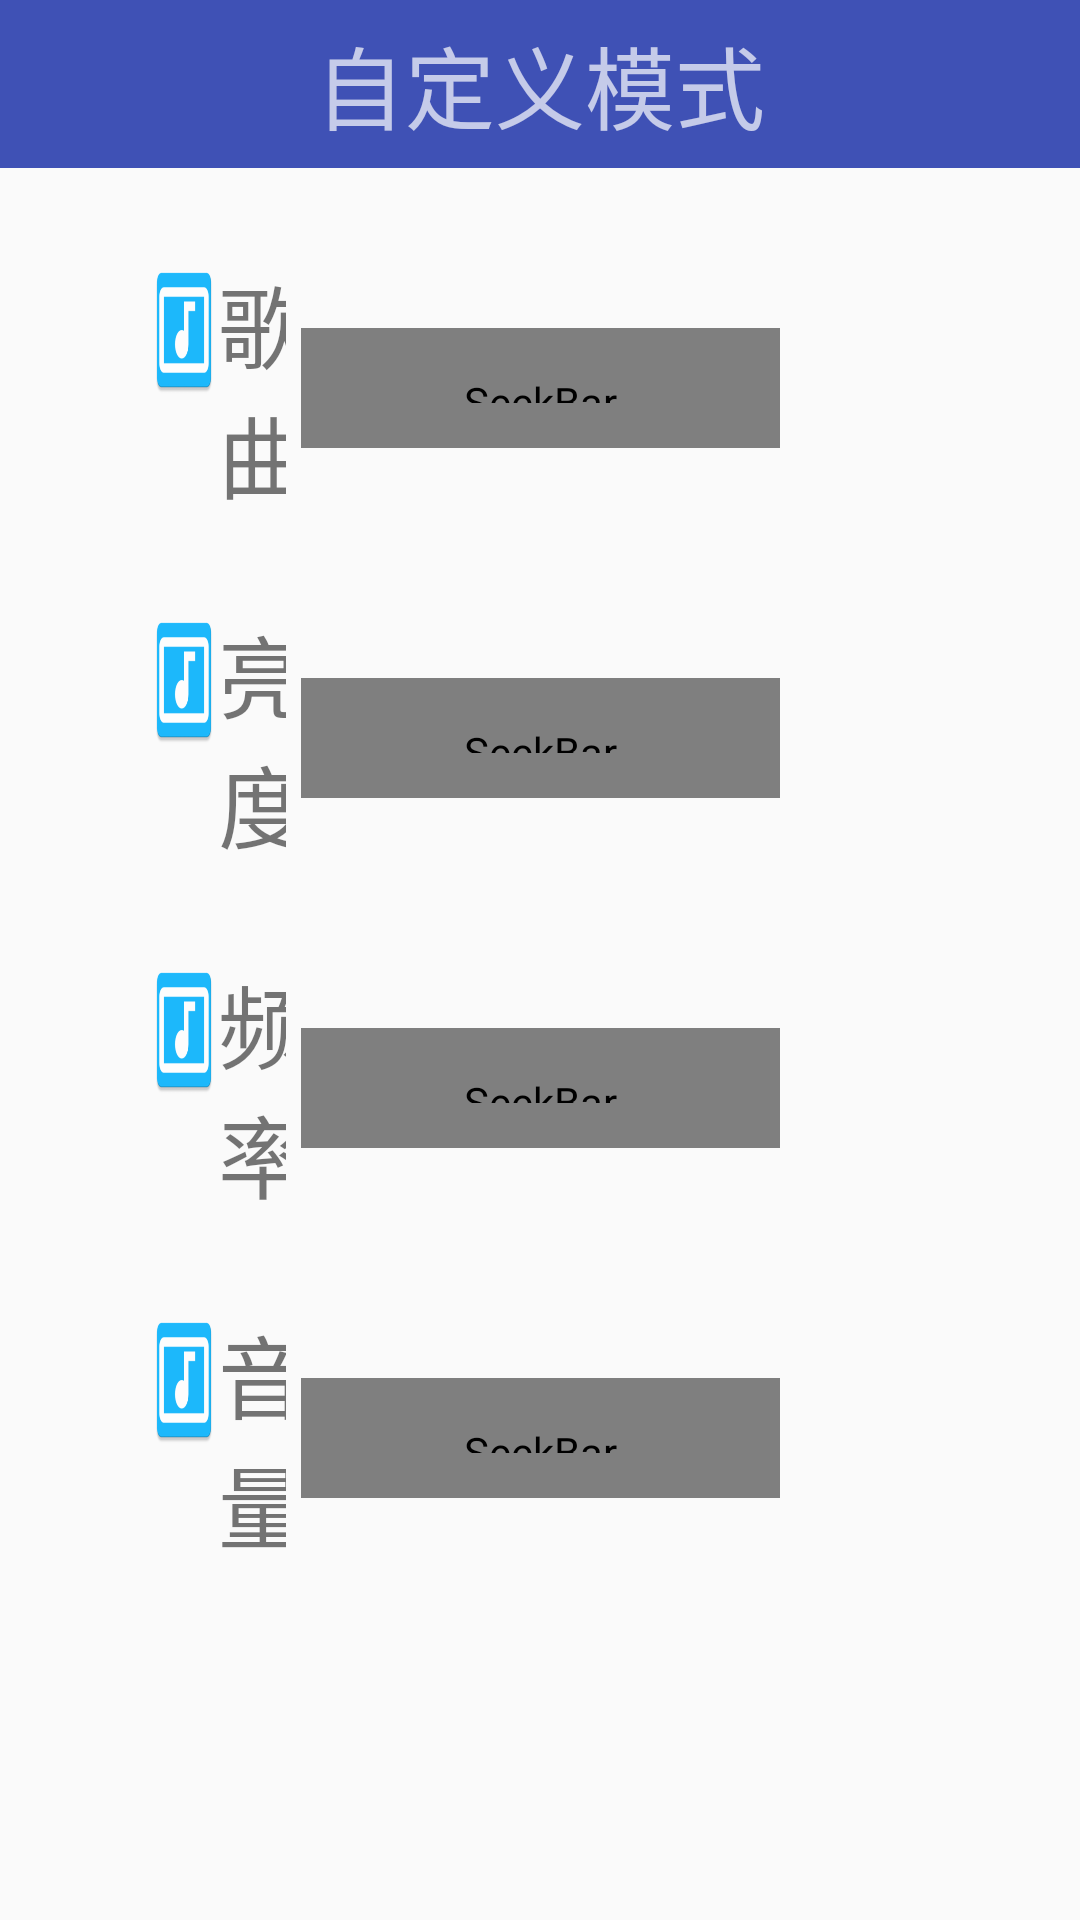

Screen size 1080*1920. Icon name, then its center in pixels as [x,y]:
songatv music: [184,331], [184,681], [184,1031], [184,1381]
